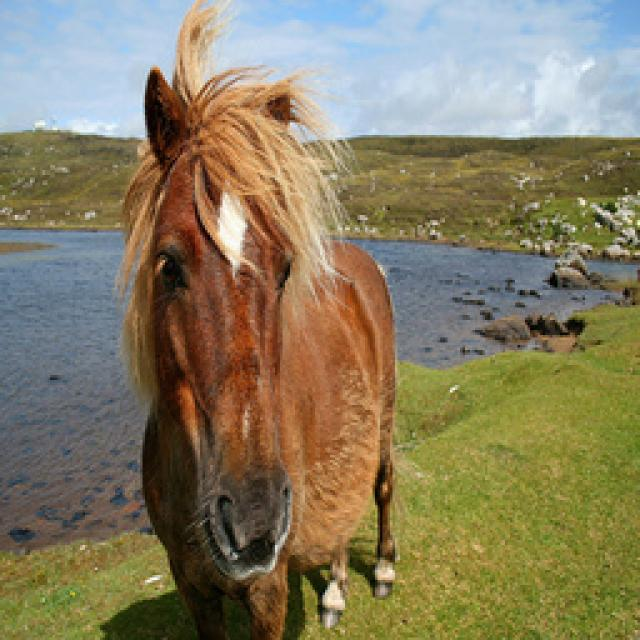not_pig: (115, 0, 400, 638)
